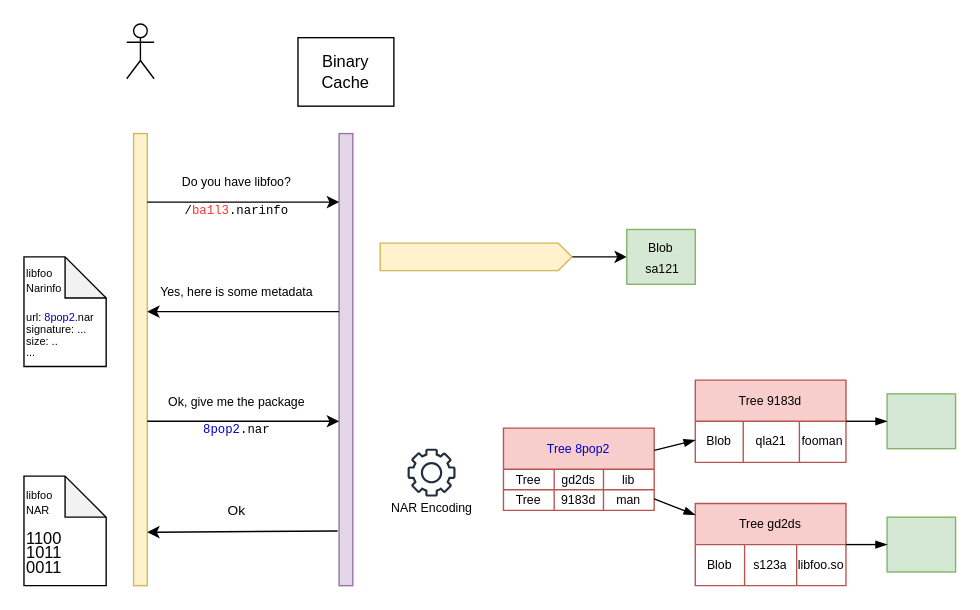
This 980x610 diagram has some shape labels left out. The centre of each missing label's shape, as x and y in pixels:
Blob qla21: (x=921, y=421)
Blob s123a: (x=921, y=544)
Reference refs/ ba1l3 / narinfo: (x=475, y=256)
User: (x=139, y=51)
